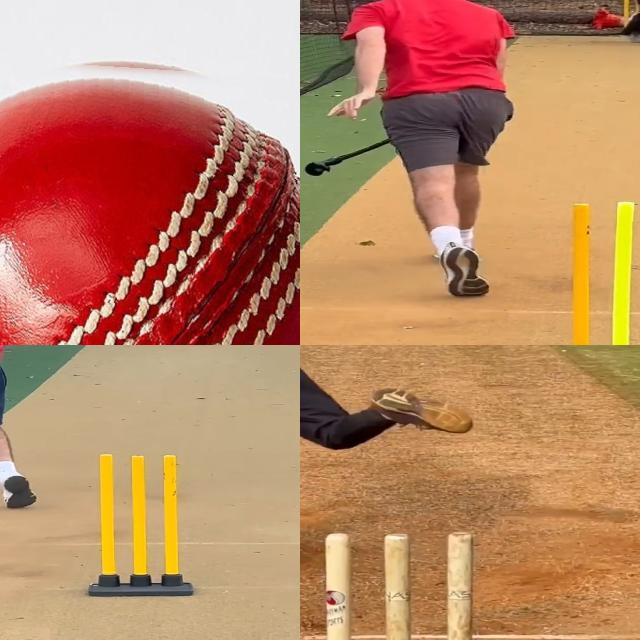Cricket ball: (0, 49, 300, 345)
Stumps: (322, 531, 473, 640), (84, 453, 196, 597), (556, 199, 640, 345)
